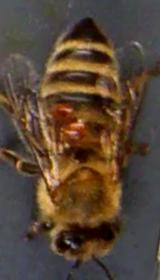varroa_mite: (54, 116, 86, 140), (50, 98, 74, 125)
